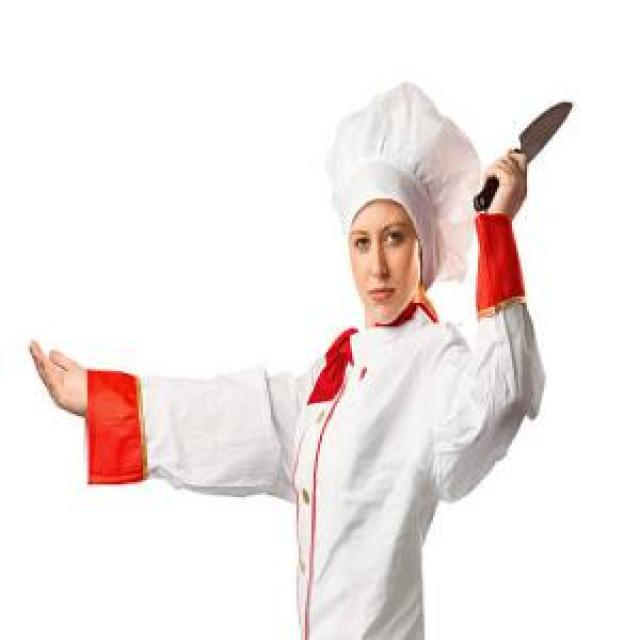knife: (467, 98, 577, 216)
